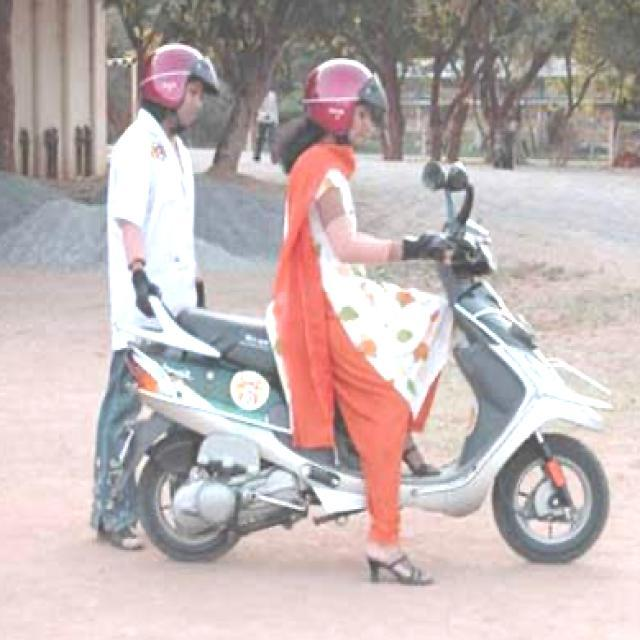Helmet: (296, 50, 396, 160), (130, 40, 230, 140)
